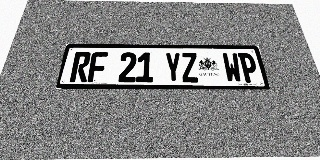1: (136, 52, 153, 82)
2: (118, 52, 137, 82)
F: (87, 52, 108, 82)
P: (238, 53, 260, 83)
R: (69, 52, 91, 82)
W: (222, 53, 243, 83)
Y: (165, 52, 182, 82)
Z: (181, 53, 199, 83)
